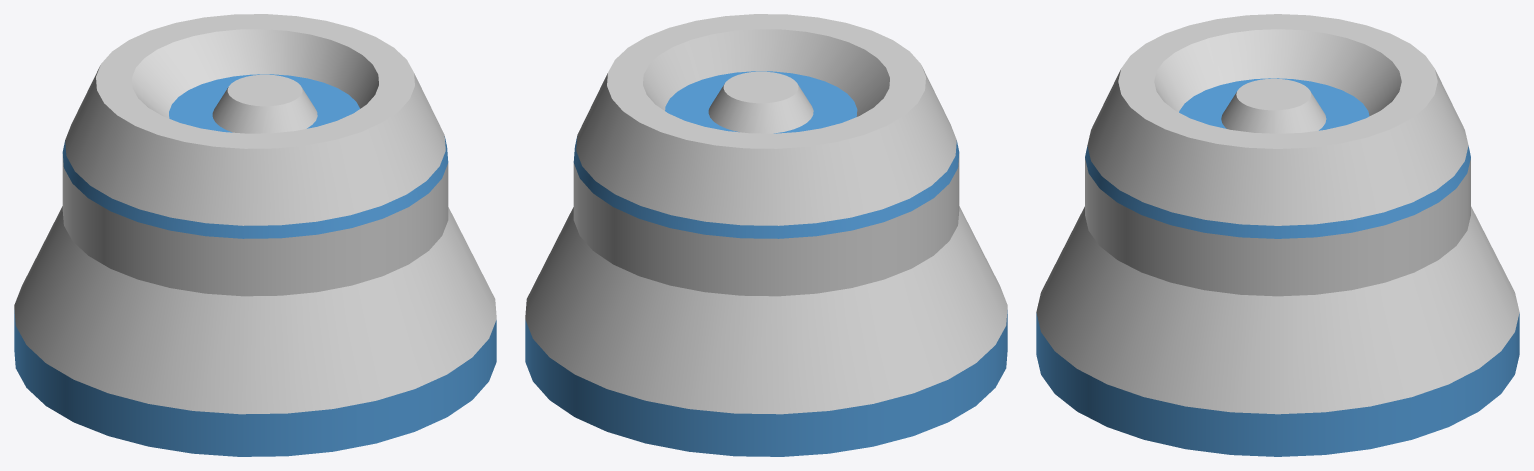
The model's file is Shoe_Store_Stage1.fbx.
The picture shows the model from 3 angles, left to right: view 1: azimuth 30°, elevation 25°; view 2: azimuth 150°, elevation 25°; view 3: azimuth 270°, elevation 25°; orthographic projection.
Parts seen in each view (by area): view 1: Cylinder; view 2: Cylinder; view 3: Cylinder.
Part boxes in pixels (box(x1,y1,x2,y2)): Cylinder: box(14, 14, 496, 456); Cylinder: box(525, 14, 1007, 456); Cylinder: box(1036, 14, 1519, 456).
Bounding box in the file's own units: 302 × 189 × 302.
